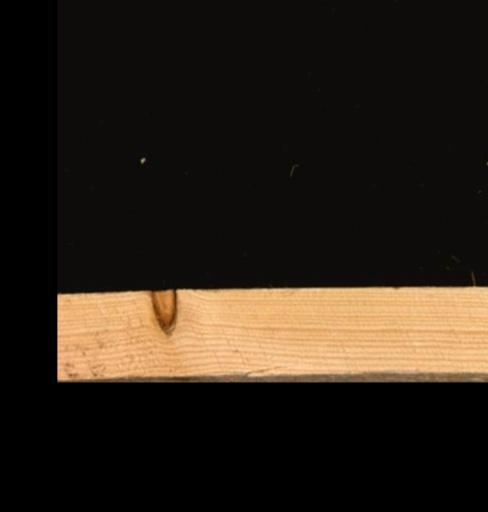edge_knot: (147, 287, 177, 336)
split: (239, 358, 288, 377)
